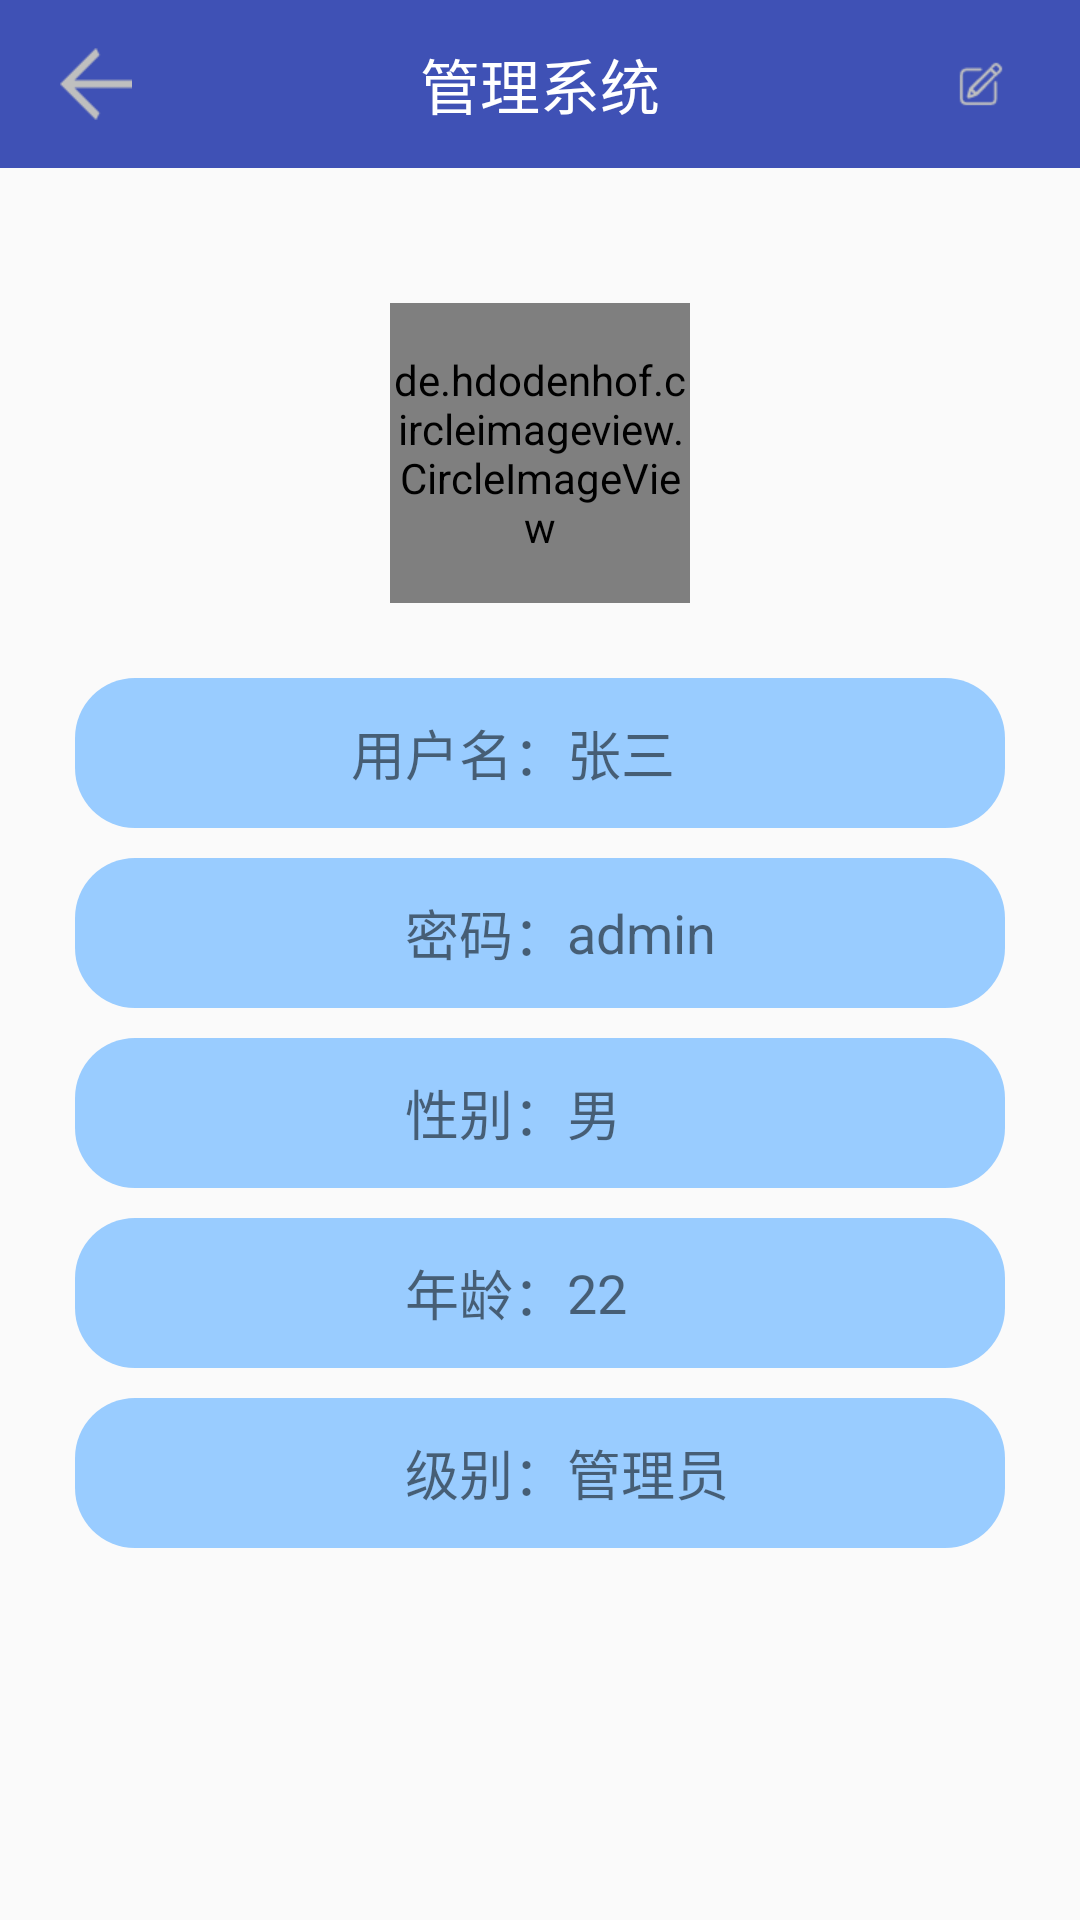

Icons on this 1080x1920 Android screen, each with the point to tap as (x,y):
modify: (981,84)
return: (96,84)
